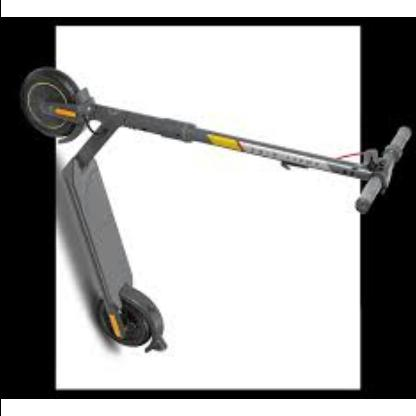bike: (19, 66, 413, 358)
